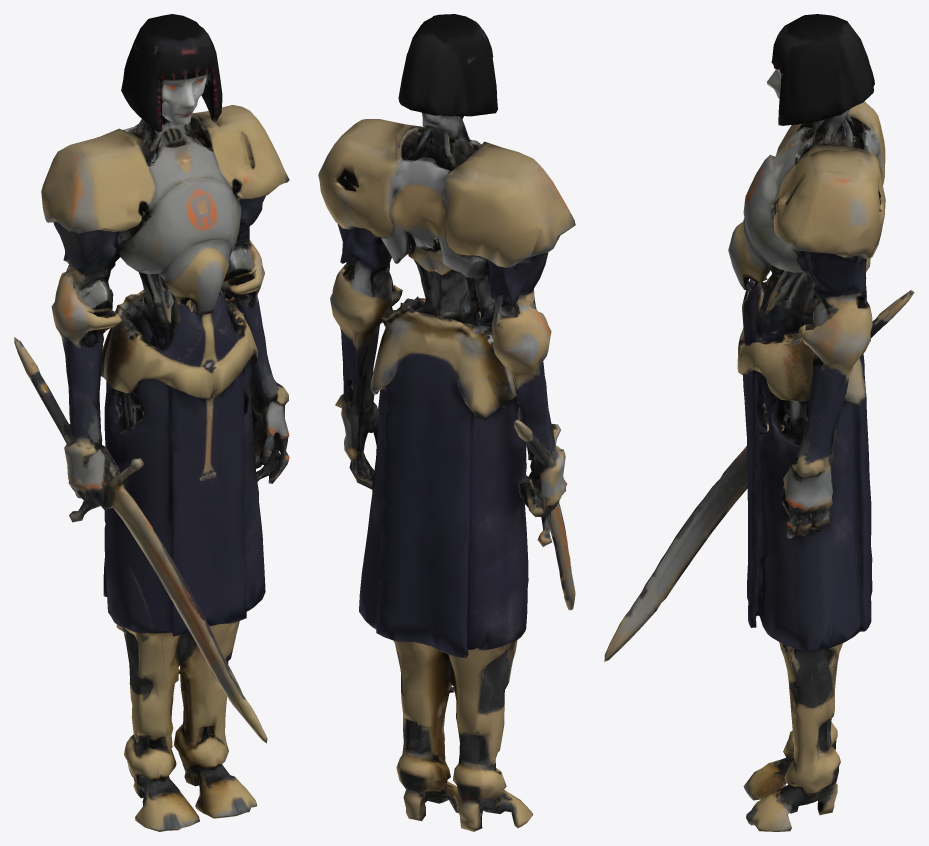
Rendered from meshy_019a83ac-a258-7abf-b304-e161973b0e27.fbx.
3 renders of one model, left to right at view 1: azimuth 30°, elevation 25°; view 2: azimuth 150°, elevation 25°; view 3: azimuth 270°, elevation 25°, orthographic. The views are drawn at different scales.
Parts seen in each view (by area): view 1: Mesh1.0; view 2: Mesh1.0; view 3: Mesh1.0.
Boxes of the visible parts, left/top/right/bottom form: Mesh1.0: left=14, top=14, right=289, bottom=831; Mesh1.0: left=318, top=14, right=575, bottom=831; Mesh1.0: left=604, top=14, right=914, bottom=831.
Bounding box in the file's own units: 57.74 × 191 × 68.49.
1 material, 1 textured.
